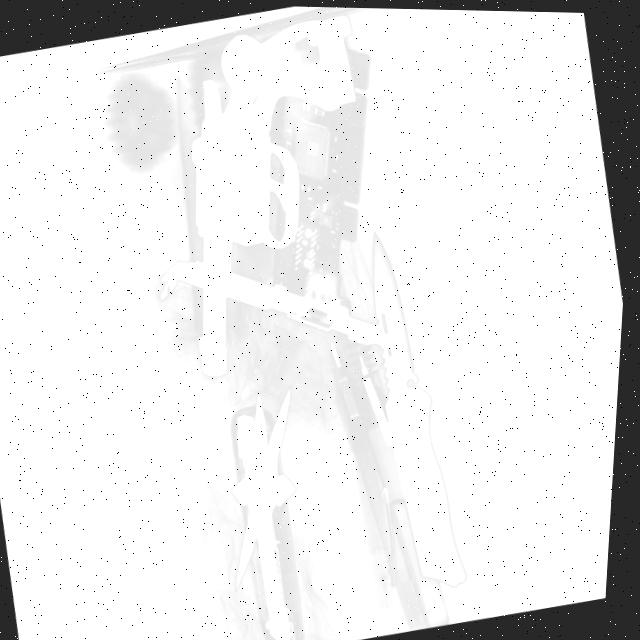knife: (345, 219, 493, 594)
pistol: (141, 8, 413, 380)
